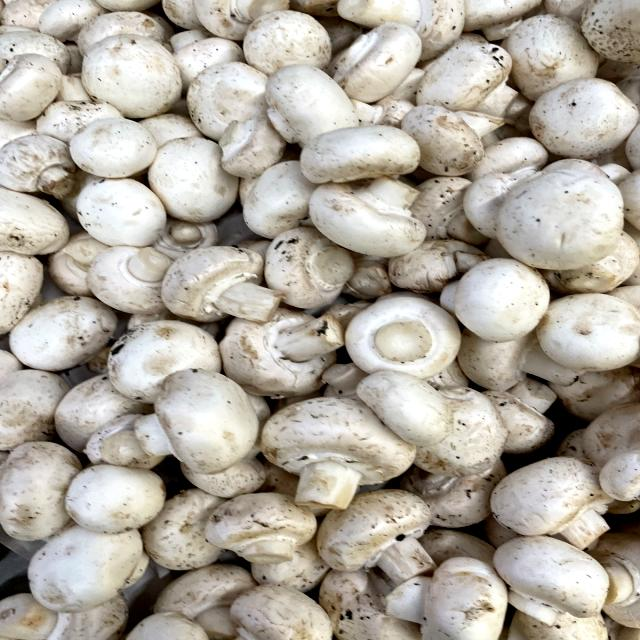mushroom: (253, 386, 428, 514), (110, 359, 270, 479), (304, 482, 469, 588), (480, 447, 632, 556), (332, 287, 472, 388), (152, 236, 297, 332), (296, 170, 447, 261), (203, 487, 324, 568)
